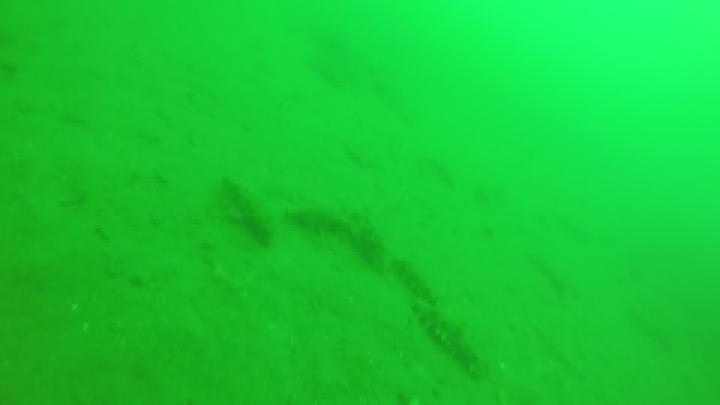holothurian: (285, 199, 393, 274), (408, 297, 488, 377), (215, 175, 278, 249), (390, 256, 440, 306)
